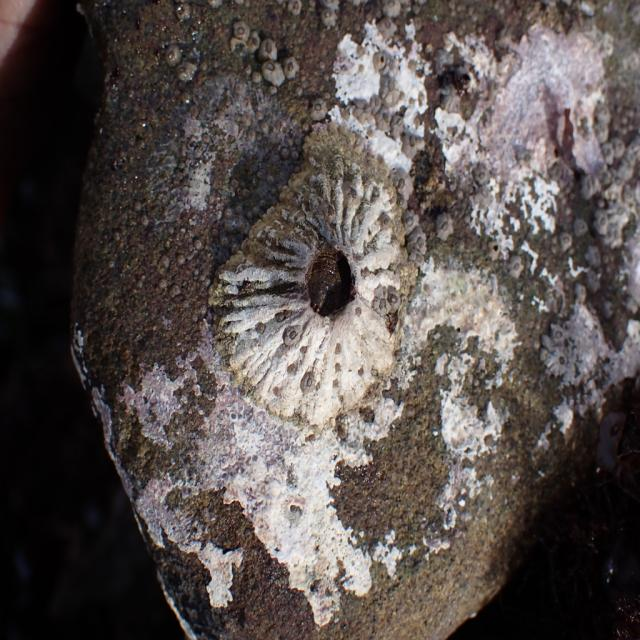barnacles: (211, 137, 418, 435)
